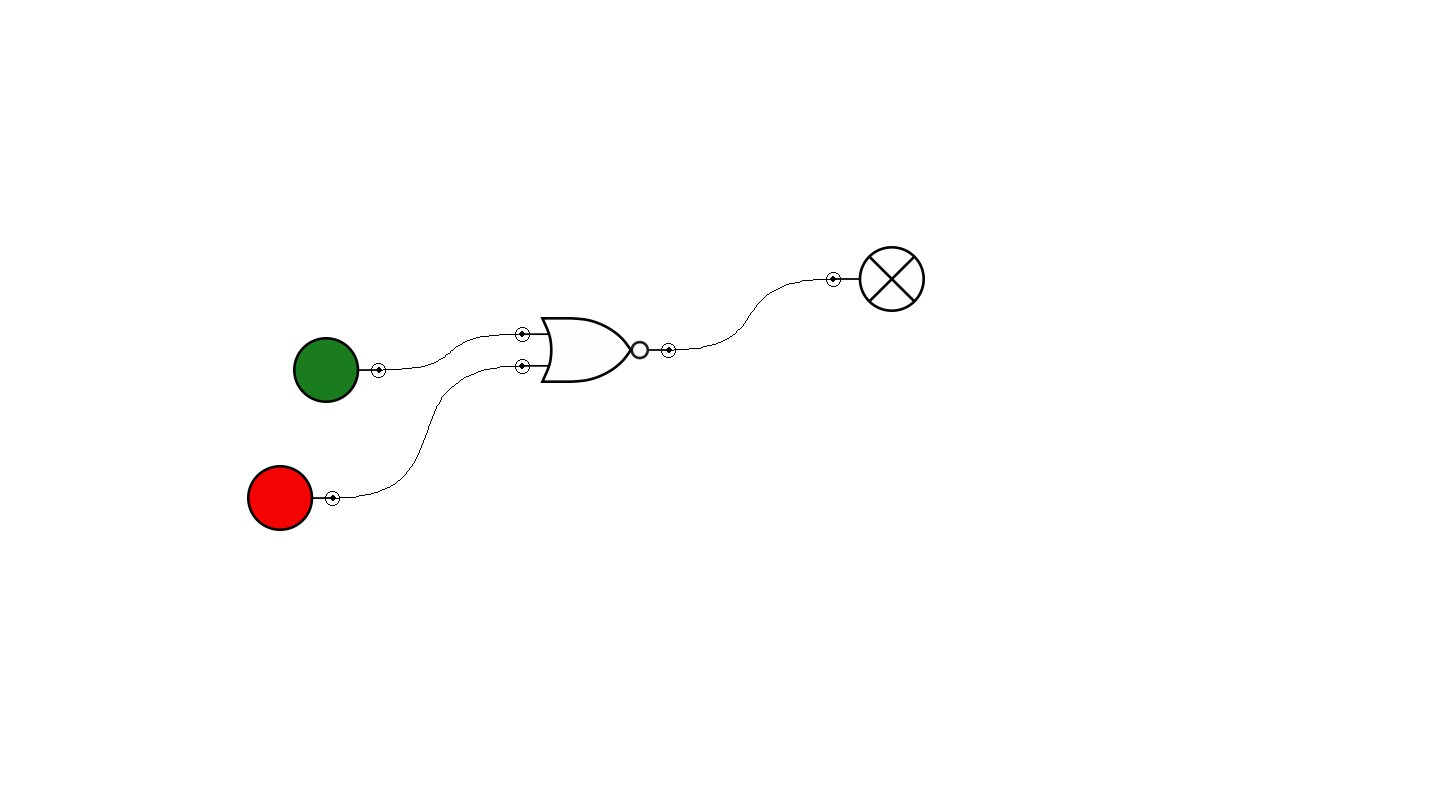bulb: (826, 246, 925, 312)
nor: (515, 317, 676, 383)
switch_False: (247, 465, 340, 531)
switch_True: (293, 337, 386, 403)
